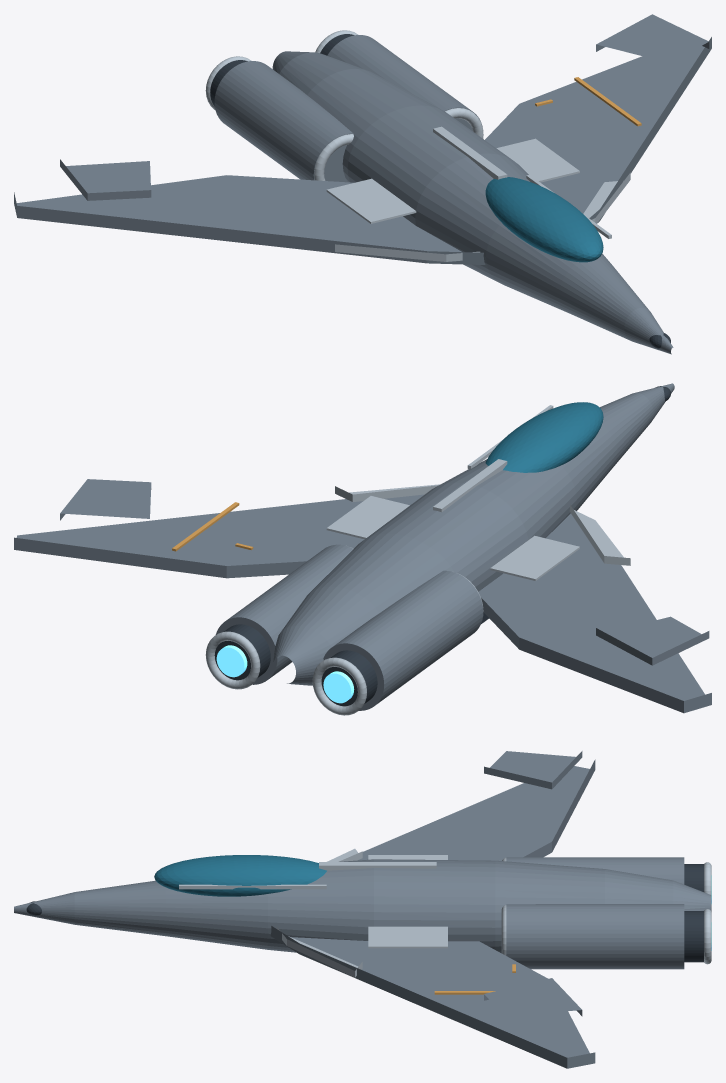
File: martins_galaxy_futuristic_jet.glb
3 renders of one model, top to bottom at view 1: azimuth 30°, elevation 25°; view 2: azimuth 150°, elevation 25°; view 3: azimuth 270°, elevation 25°, orthographic. The views are drawn at different scales.
Visible parts, largest first — view 1: Main aerodynamic fuselage, Left swept main wing, Right swept main wing, Left engine nacelle, Panoramic cockpit canopy, Right engine nacelle, Right vertical stabilizer, Left vertical stabilizer, Left wing-root service panel, Right wing-root service panel, Left forward canard, Dorsal mechanical spine (+2 smaller); view 2: Main aerodynamic fuselage, Left swept main wing, Right swept main wing, Left engine nacelle, Panoramic cockpit canopy, Right engine nacelle, Left vertical stabilizer, Right vertical stabilizer, Left wing-root service panel, Right wing-root service panel, Right exhaust nozzle metallic ring, Left exhaust nozzle metallic ring (+7 smaller); view 3: Main aerodynamic fuselage, Right swept main wing, Right engine nacelle, Left swept main wing, Panoramic cockpit canopy, Left engine nacelle, Right vertical stabilizer, Left vertical stabilizer, Right wing-root service panel, Right exhaust nozzle, Dorsal mechanical spine, Right forward canard (+1 smaller).
Boxes of the visible parts, <box> form: Main aerodynamic fuselage: <box>272,51,673,354</box>; Left swept main wing: <box>14,175,485,264</box>; Right swept main wing: <box>485,37,711,223</box>; Left engine nacelle: <box>214,61,353,182</box>; Panoramic cockpit canopy: <box>485,177,603,262</box>; Right engine nacelle: <box>327,35,483,131</box>; Right vertical stabilizer: <box>596,14,709,63</box>; Left vertical stabilizer: <box>60,159,151,200</box>; Left wing-root service panel: <box>326,178,416,223</box>; Right wing-root service panel: <box>496,138,579,182</box>; Left forward canard: <box>335,244,480,261</box>; Dorsal mechanical spine: <box>433,126,507,179</box>; Main aerodynamic fuselage: <box>273,383,674,685</box>; Left swept main wing: <box>478,513,711,713</box>; Right swept main wing: <box>14,494,424,578</box>; Left engine nacelle: <box>323,570,483,710</box>; Panoramic cockpit canopy: <box>485,402,603,472</box>; Right engine nacelle: <box>215,544,353,684</box>; Left vertical stabilizer: <box>596,616,709,665</box>; Right vertical stabilizer: <box>60,479,151,520</box>; Left wing-root service panel: <box>490,535,579,580</box>; Right wing-root service panel: <box>326,496,409,539</box>; Right exhaust nozzle metallic ring: <box>205,631,260,689</box>; Left exhaust nozzle metallic ring: <box>312,657,366,715</box>; Main aerodynamic fuselage: <box>14,859,711,953</box>; Right swept main wing: <box>270,926,595,1068</box>; Right engine nacelle: <box>506,904,684,969</box>; Left swept main wing: <box>358,759,595,860</box>; Panoramic cockpit canopy: <box>154,855,326,896</box>; Left engine nacelle: <box>506,857,684,884</box>; Right vertical stabilizer: <box>484,978,582,1016</box>; Left vertical stabilizer: <box>484,751,582,789</box>; Right wing-root service panel: <box>368,926,447,948</box>; Right exhaust nozzle: <box>684,911,703,962</box>; Dorsal mechanical spine: <box>319,862,436,870</box>; Right forward canard: <box>276,927,362,977</box>.
Size of the model in its own units: 9.5 by 1.37 by 9.21.
